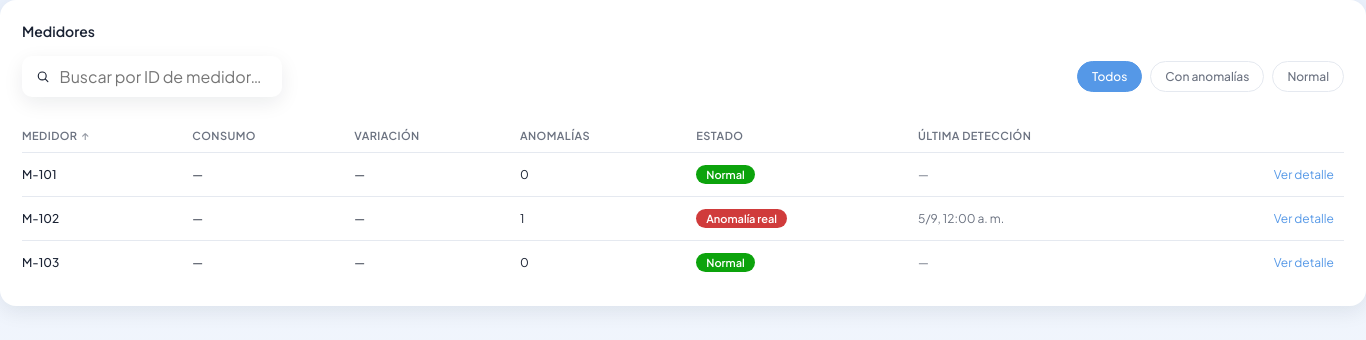
Test case: MetersTable (desktop) › filters rows with the status chips
The width and height of the screenshot is (1366, 340).
Check: the text "M-101" is shown, box [22, 152, 192, 196]
What coordinates should you click on to do the following:
click the button "Con anomalías"
I would click on:
 (1207, 76)
Its box is [1150, 61, 1264, 92].
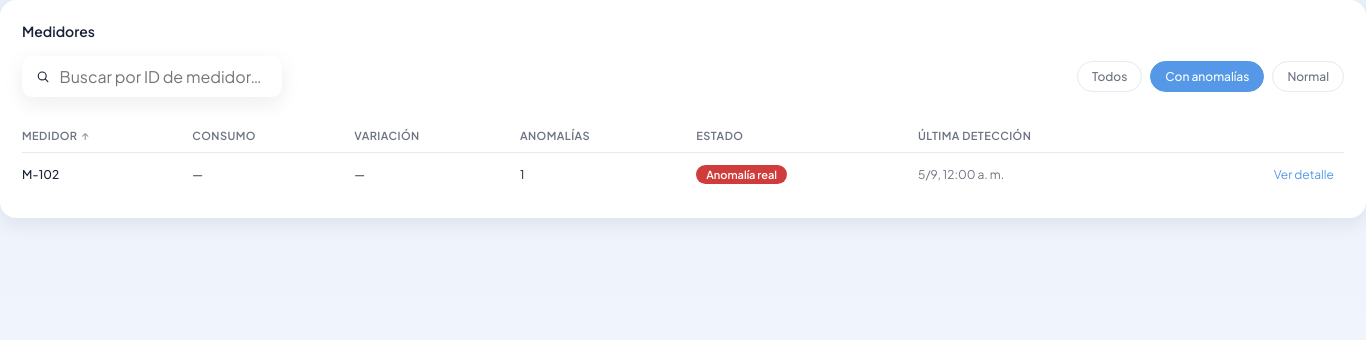
Check: the text "M-102" is shown, box [22, 152, 192, 196]
Check: the text "M-101" is gone
What coordinates should you click on to do the following:
click the button "Normal"
I would click on:
 (1308, 76)
Its box is [1272, 61, 1344, 92].
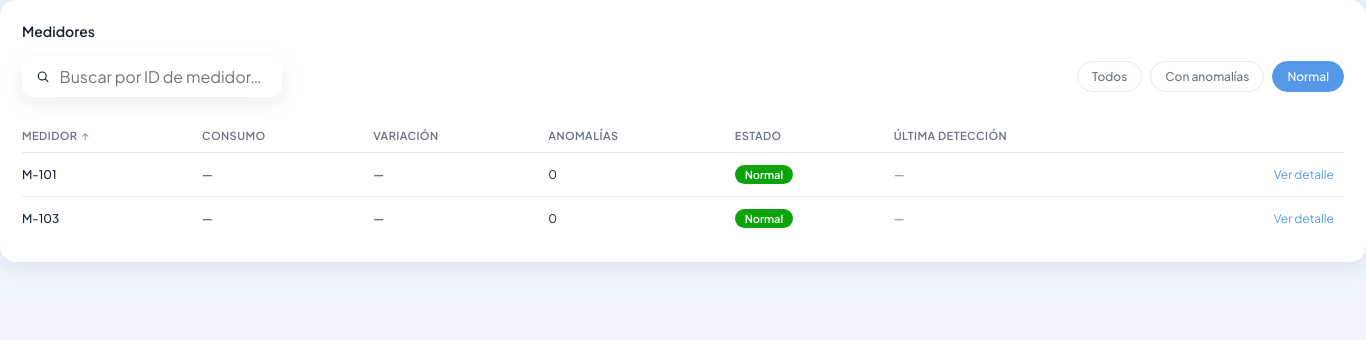
Check: the text "M-101" is shown, box [22, 152, 202, 196]
Check: the text "M-102" is gone
What coordinates should you click on to do the following:
click the button "Todos"
I would click on:
 (1110, 76)
Its box is [1077, 61, 1142, 92].
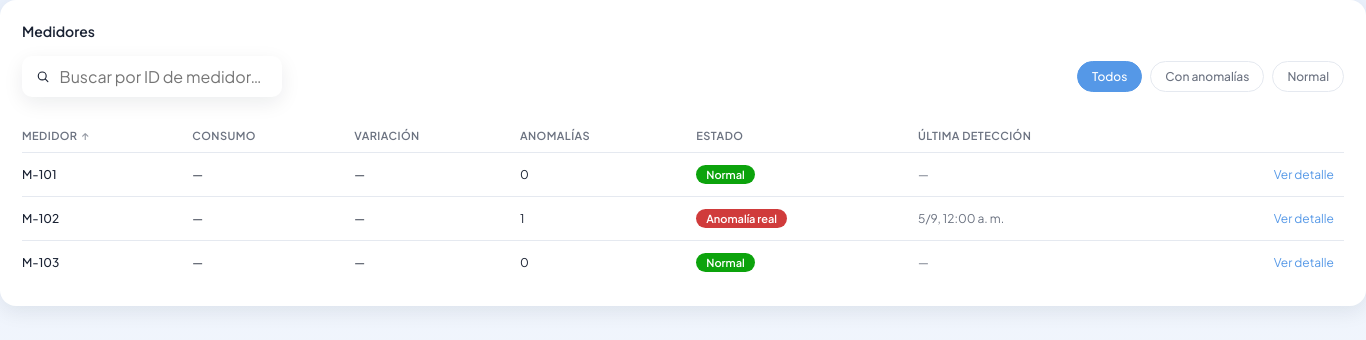
Check: the text "M-101" is shown, box [22, 152, 192, 196]
Check: the text "M-102" is shown, box [22, 196, 192, 240]
